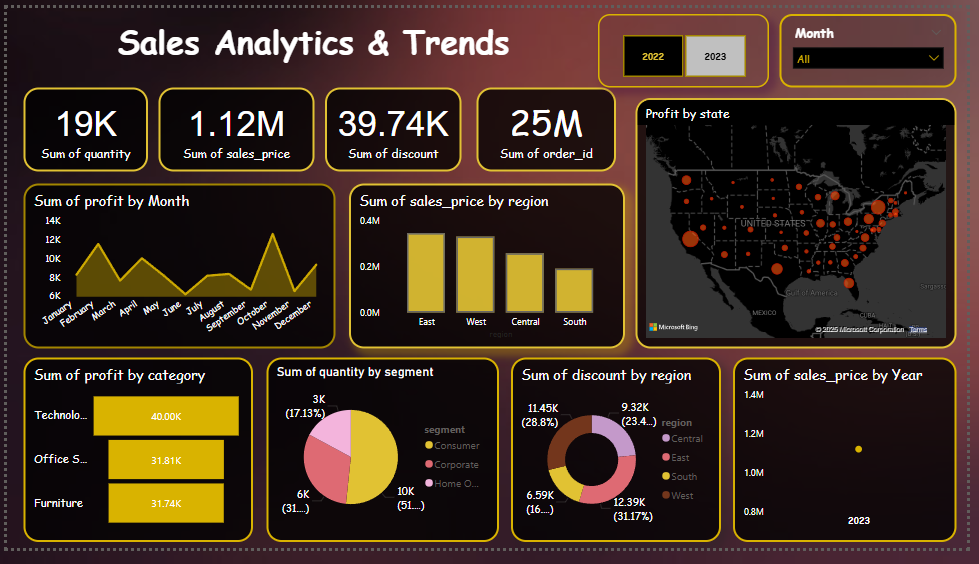

What the dashboard file says about the page in this screenshot:
{"tool":"powerbi","page":{"name":"Page 1","canvas":[1280,720],"ordinal":0},"visuals":[{"type":"card","fields":{"Values":["Sum(orders_modified.order_id)"]},"box":[626,106,186,112],"z":0},{"type":"clusteredColumnChart","fields":{"Category":["orders_modified.region"],"Y":["Sum(orders_modified.sales_price)"]},"box":[456,234,368,220],"z":1000},{"type":"areaChart","fields":{"Category":["orders_modified.order_date.Variation.Date Hierarchy.Year"],"Y":["Sum(orders_modified.sales_price)"]},"box":[968,466,298,246],"z":2000},{"type":"donutChart","fields":{"Y":["Sum(orders_modified.discount)"],"Series":["orders_modified.region"]},"box":[672,466,280,246],"z":3000},{"type":"funnel","fields":{"Category":["orders_modified.category"],"Y":["Sum(orders_modified.profit)"]},"box":[22,466,306,246],"z":4000},{"type":"lineStackedColumnComboChart","fields":{"Category":["orders_modified.order_date.Variation.Date Hierarchy.Month"],"Y2":["Sum(orders_modified.profit)"]},"box":[22,234,416,220],"z":5000},{"type":"map","title":"Profit by state","fields":{"Category":["orders_modified.state"],"Size":["Sum(orders_modified.profit)"]},"box":[838,120,428,334],"z":6000},{"type":"pieChart","fields":{"Category":["orders_modified.segment"],"Y":["Sum(orders_modified.quantity)"]},"box":[346,466,310,246],"z":7000},{"type":"slicer","fields":{"Values":["orders_modified.order_date.Variation.Date Hierarchy.Year"]},"box":[788,8,228,98],"z":8000},{"type":"card","fields":{"Values":["Sum(orders_modified.quantity)"]},"box":[22,106,166,112],"z":9000},{"type":"card","fields":{"Values":["Sum(orders_modified.discount)"]},"box":[424,106,182,112],"z":10000},{"type":"card","fields":{"Values":["Sum(orders_modified.sales_price)"]},"box":[202,106,208,112],"z":11000},{"type":"textbox","box":[86,8,664,128],"z":12000},{"type":"slicer","fields":{"Values":["orders_modified.order_date.Variation.Date Hierarchy.Month"]},"box":[1030,8,236,98],"z":13000}]}

Visuals, with their boxes in screenshot pixels (x1, y1, x2, y2), scaled from the page's 1280x720 canvas onto the 979x564 screenshot:
card - Sum(orders_modified.order_id): [left=479, top=83, right=621, bottom=171]
clusteredColumnChart - orders_modified.region x Sum(orders_modified.sales_price): [left=349, top=183, right=630, bottom=356]
areaChart - orders_modified.order_date.Variation.Date Hierarchy.Year x Sum(orders_modified.sales_price): [left=740, top=365, right=968, bottom=558]
donutChart - Sum(orders_modified.discount) x orders_modified.region: [left=514, top=365, right=728, bottom=558]
funnel - orders_modified.category x Sum(orders_modified.profit): [left=17, top=365, right=251, bottom=558]
lineStackedColumnComboChart - orders_modified.order_date.Variation.Date Hierarchy.Month x Sum(orders_modified.profit): [left=17, top=183, right=335, bottom=356]
"Profit by state" map: [left=641, top=94, right=968, bottom=356]
pieChart - orders_modified.segment x Sum(orders_modified.quantity): [left=265, top=365, right=502, bottom=558]
slicer - orders_modified.order_date.Variation.Date Hierarchy.Year: [left=603, top=6, right=777, bottom=83]
card - Sum(orders_modified.quantity): [left=17, top=83, right=144, bottom=171]
card - Sum(orders_modified.discount): [left=324, top=83, right=463, bottom=171]
card - Sum(orders_modified.sales_price): [left=154, top=83, right=314, bottom=171]
textbox: [left=66, top=6, right=574, bottom=107]
slicer - orders_modified.order_date.Variation.Date Hierarchy.Month: [left=788, top=6, right=968, bottom=83]
